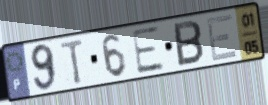6: (100, 32, 128, 79)
9: (28, 41, 58, 93)
B: (172, 19, 206, 69)
E: (130, 24, 167, 77), (205, 12, 240, 64)
T: (59, 37, 86, 87)
